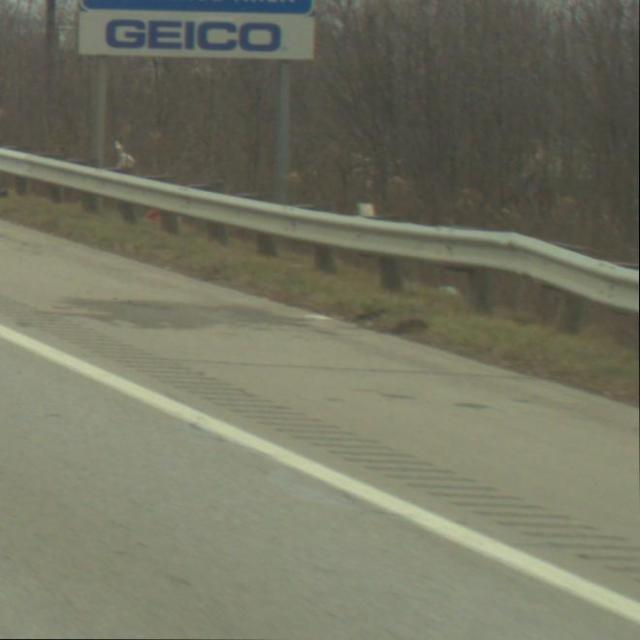Guard rail: (0, 143, 640, 352)
